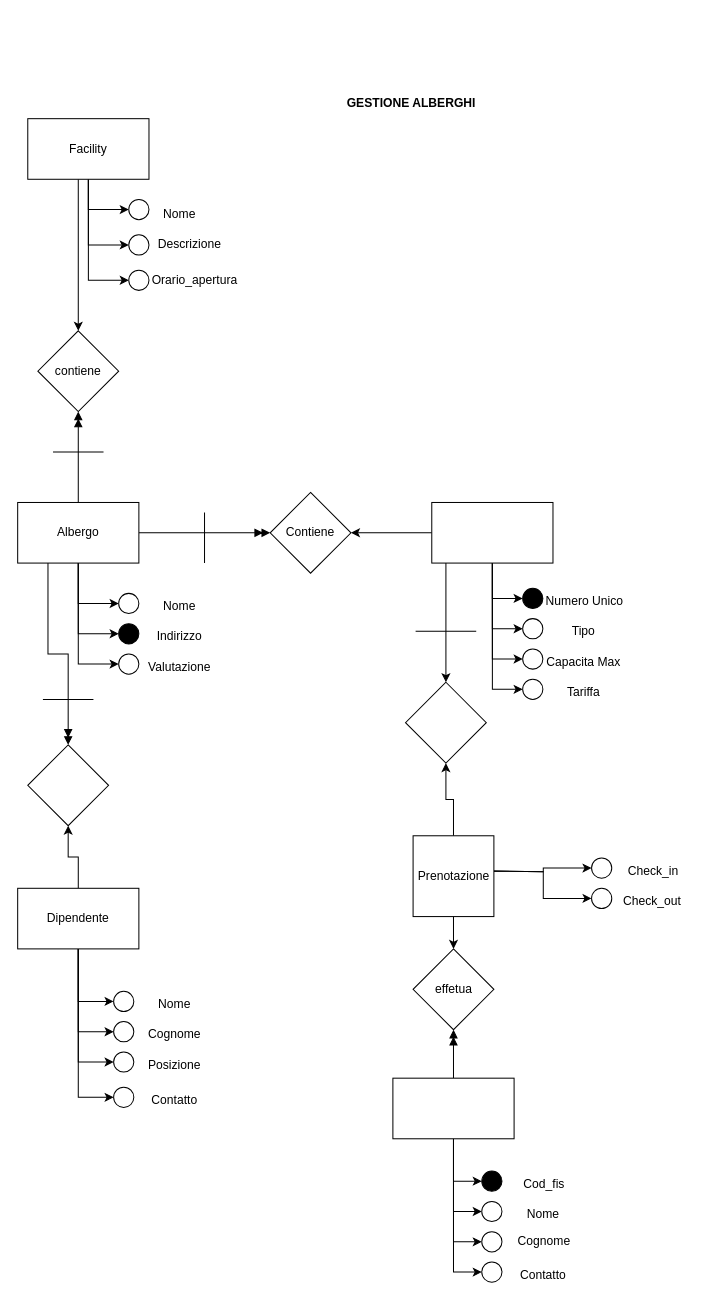
Some shapes in this 710 by 1307 pixel diagram are drawn without their labels. Each missing label, with the box of its shape:
Camere: (431, 501, 553, 563)
Clienti: (392, 1077, 514, 1139)
Lavora: (27, 744, 109, 826)
Riserva: (405, 681, 486, 763)
